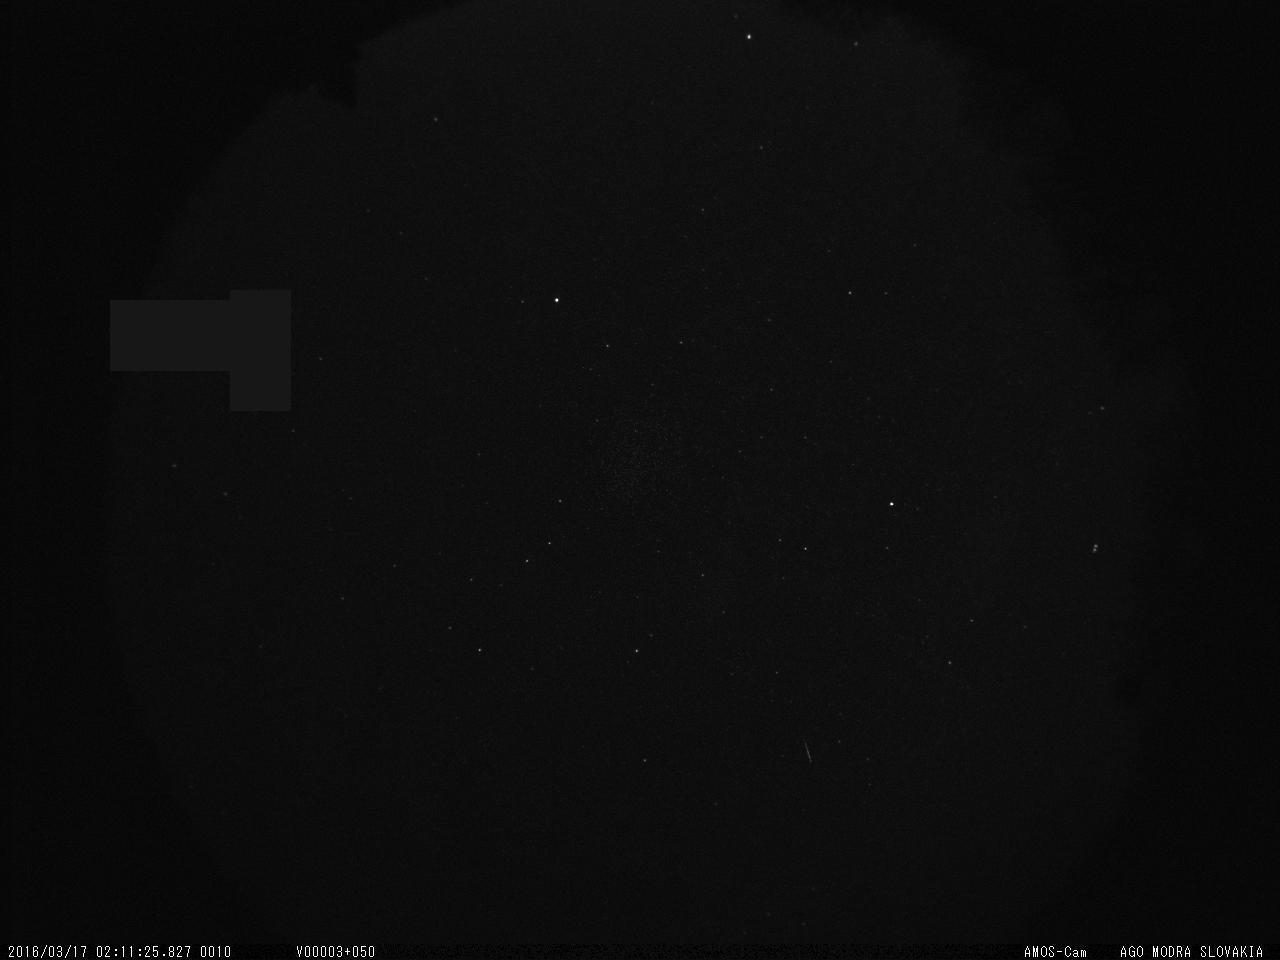meteor: (792, 735, 824, 768)
